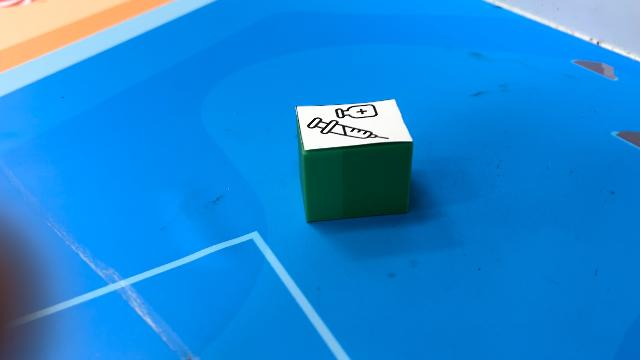syringe: (295, 98, 413, 222)
